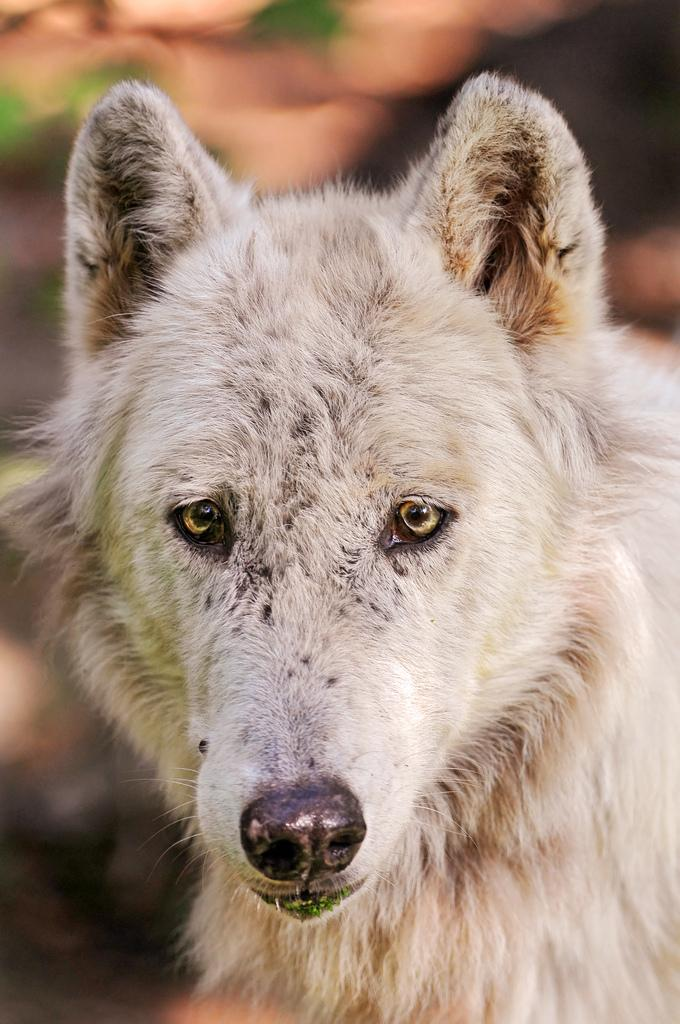Wolf: (14, 68, 680, 1024)
